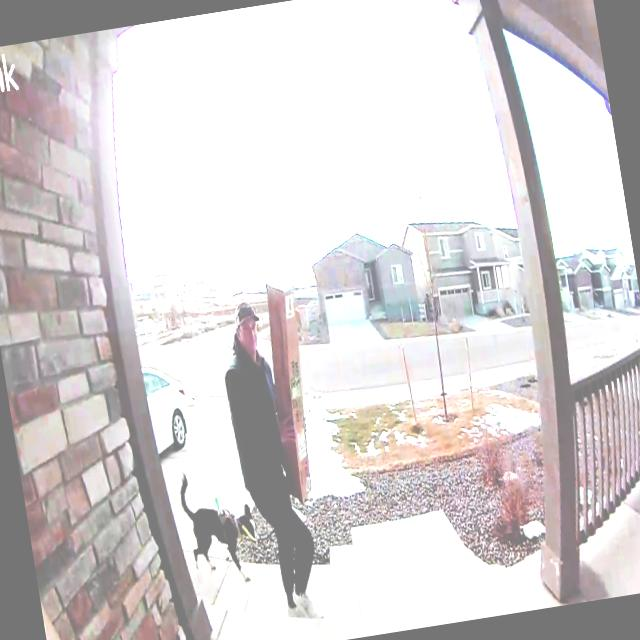Box: (259, 275, 327, 503)
